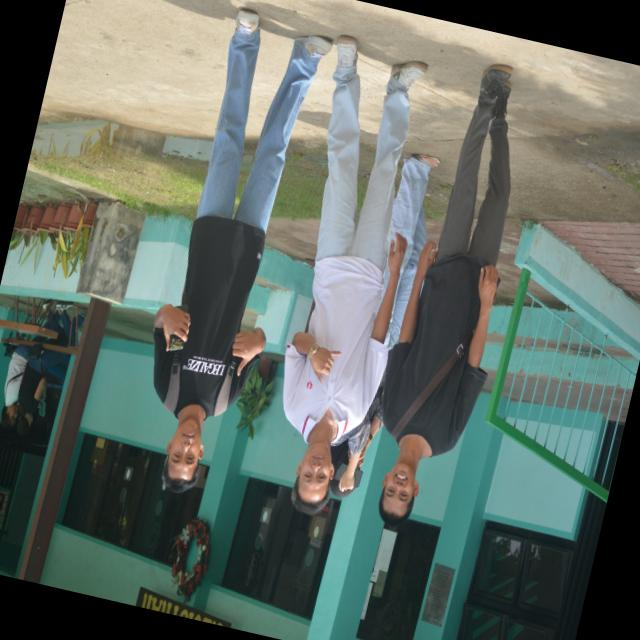person: (153, 9, 331, 492), (283, 35, 426, 513), (378, 64, 511, 525), (385, 153, 439, 348), (17, 348, 66, 435), (0, 344, 28, 428)
